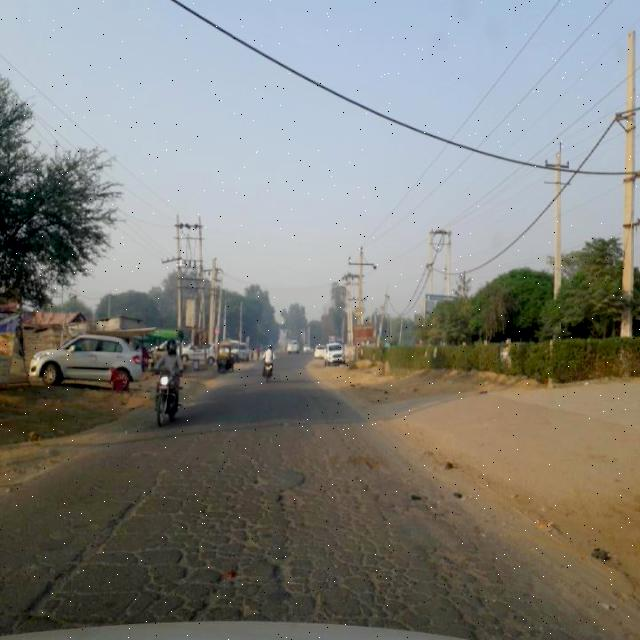D00: (3, 463, 165, 620)
D20: (1, 451, 547, 621)
